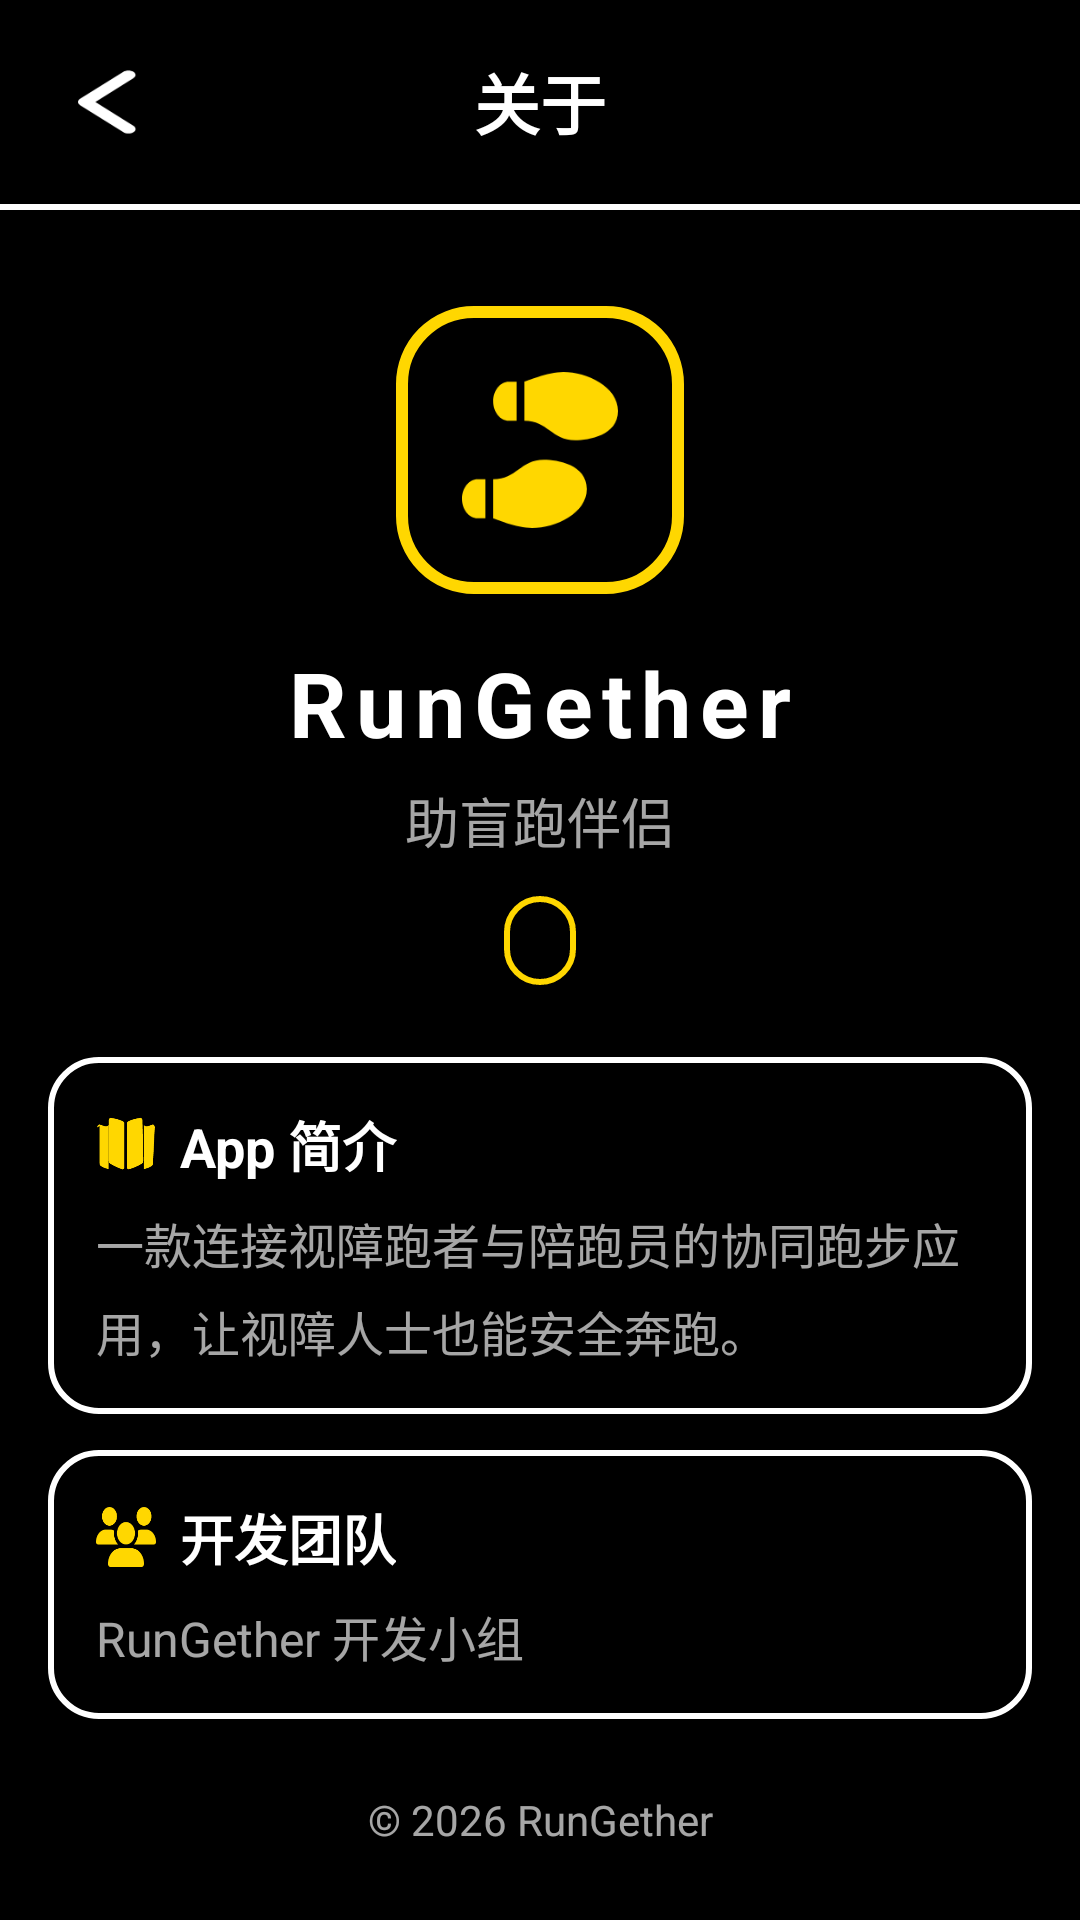

Where icons sit on this 1080px×1920px app screen, as rect(x1, y1, x2, y2):
shoe prints: rect(396, 306, 684, 594)
users: rect(96, 1507, 156, 1567)
返回: rect(78, 70, 136, 134)
